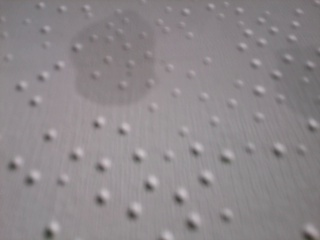Water_detected: (79, 20, 177, 98), (270, 70, 293, 94)
